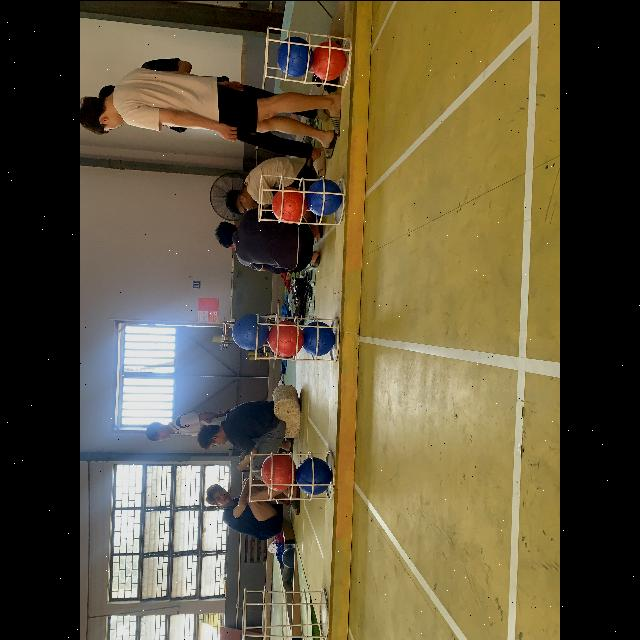B: (277, 35, 313, 77), (296, 455, 330, 495), (232, 314, 268, 351), (308, 179, 342, 215), (302, 321, 336, 355)
R: (312, 40, 346, 80), (268, 319, 304, 356), (272, 187, 308, 223), (260, 454, 296, 490)
